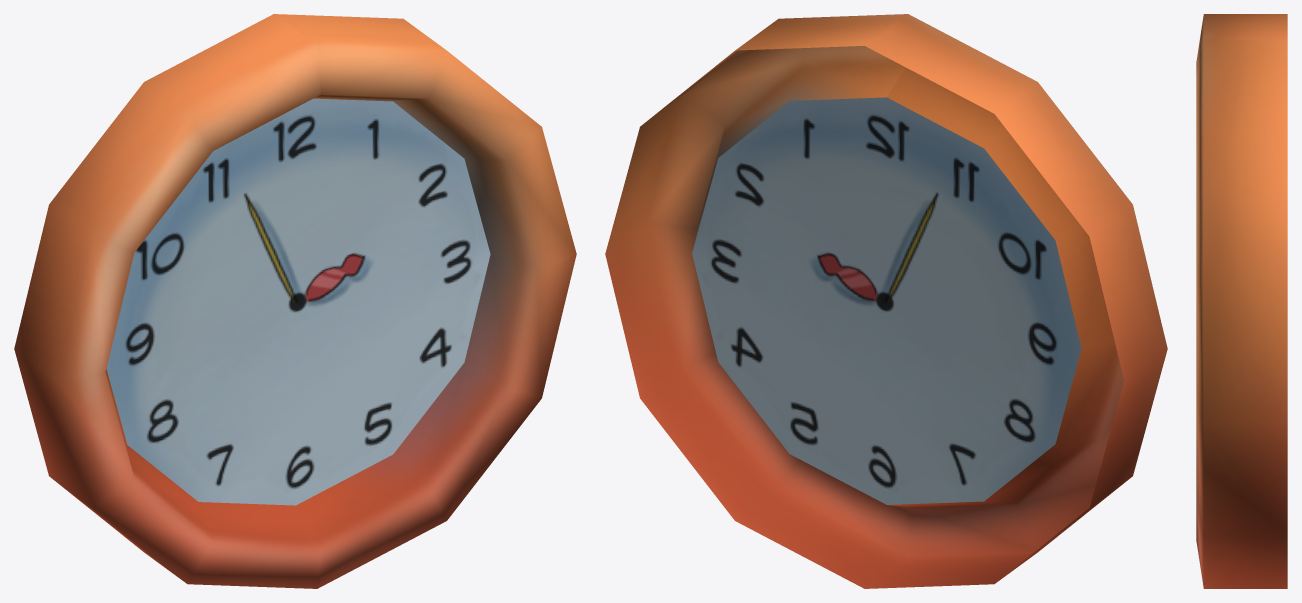
Rendered from Clock.FBX.
The picture shows the model from 3 angles, left to right: view 1: azimuth 30°, elevation 25°; view 2: azimuth 150°, elevation 25°; view 3: azimuth 270°, elevation 25°; orthographic projection. The views are drawn at different scales.
Visible parts, largest first — view 1: Cylinder006; view 2: Cylinder006; view 3: Cylinder006.
Boxes of the visible parts, left/top/right/bottom form: Cylinder006: left=14, top=14, right=576, bottom=588; Cylinder006: left=605, top=14, right=1167, bottom=588; Cylinder006: left=1196, top=14, right=1287, bottom=588.
Bounding box in the file's own units: 5.2 × 5.2 × 0.8223.
